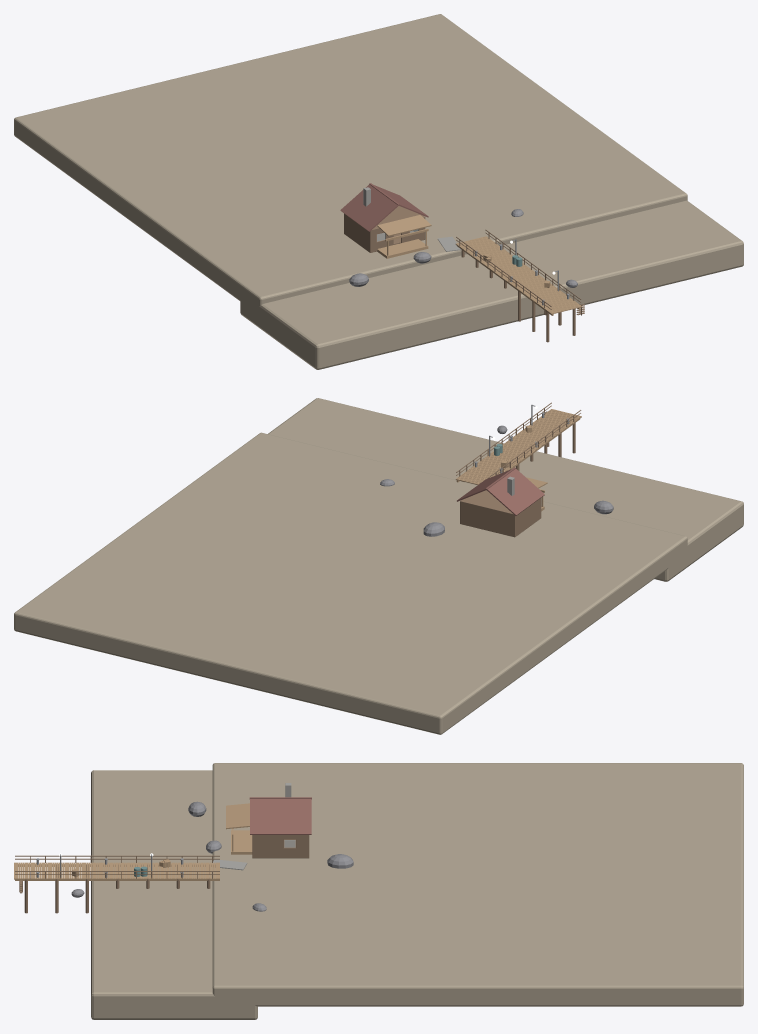
The model's file is lobby.glb.
3 views of the same model, one above another, from view 1: azimuth 30°, elevation 25°; view 2: azimuth 150°, elevation 25°; view 3: azimuth 270°, elevation 25° (orthographic). The views are drawn at different scales.
Visible parts, largest first — view 1: Land-col, Shelf-col, Pier_Deck-col, House_Roof-col, House_Walls-col, House_Porch-col, Pier_Rails-col, Pier_Pilings-col; view 2: Land-col, Shelf-col, Pier_Deck-col, House_Walls-col, House_Roof-col, Pier_Rails-col, Rocks-col; view 3: Land-col, Shelf-col, Pier_Deck-col, House_Roof-col, House_Walls-col, Pier_Rails-col, House_Porch-col, Rocks-col, Pier_Pilings-col.
Boxes of the visible parts, left/top/right/bottom form: Land-col: left=14, top=14, right=687, bottom=312; Shelf-col: left=240, top=200, right=743, bottom=369; Pier_Deck-col: left=455, top=236, right=581, bottom=315; House_Roof-col: left=340, top=183, right=428, bottom=231; House_Walls-col: left=344, top=206, right=425, bottom=252; House_Porch-col: left=377, top=215, right=431, bottom=258; Pier_Rails-col: left=456, top=229, right=581, bottom=309; Pier_Pilings-col: left=461, top=249, right=575, bottom=342; Land-col: left=14, top=432, right=687, bottom=734; Shelf-col: left=268, top=398, right=743, bottom=581; Pier_Deck-col: left=455, top=409, right=581, bottom=484; House_Walls-col: left=460, top=490, right=541, bottom=537; House_Roof-col: left=457, top=467, right=544, bottom=515; Pier_Rails-col: left=456, top=402, right=581, bottom=479; Rocks-col: left=380, top=425, right=613, bottom=536; Land-col: left=212, top=763, right=743, bottom=1006; Shelf-col: left=91, top=770, right=257, bottom=1019; Pier_Deck-col: left=14, top=862, right=219, bottom=880; House_Roof-col: left=249, top=797, right=311, bottom=834; House_Walls-col: left=252, top=835, right=309, bottom=858; Pier_Rails-col: left=15, top=855, right=219, bottom=878; House_Porch-col: left=226, top=803, right=252, bottom=854; Rocks-col: left=71, top=801, right=353, bottom=911; Pier_Pilings-col: left=24, top=864, right=210, bottom=913.
Size of the model in its own units: 70 by 12.65 by 96.14.
